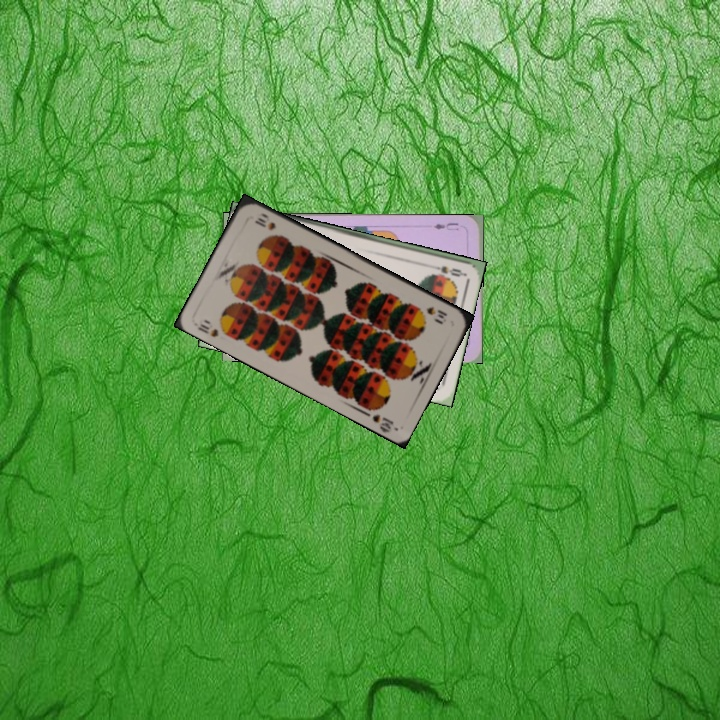EU: (429, 219, 461, 233)
S10: (194, 319, 221, 340), (422, 302, 450, 321)
SO: (426, 261, 466, 279)
